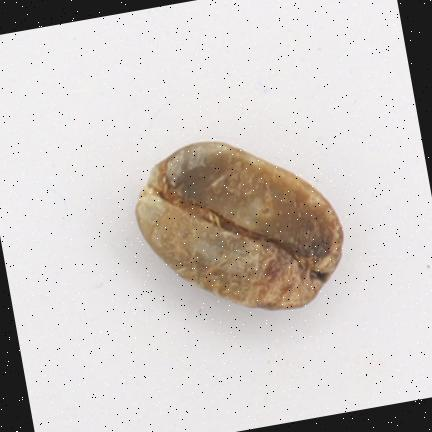partial-black: (136, 142, 343, 309)
